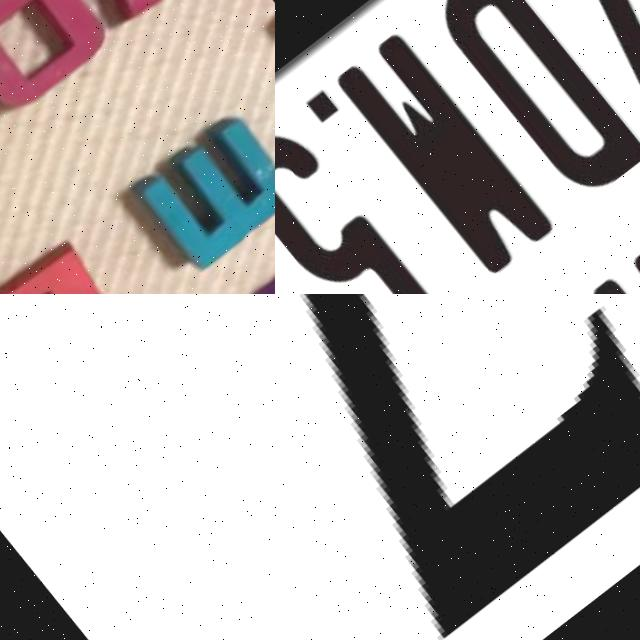5: (275, 112, 444, 294)
7: (275, 294, 640, 640), (0, 294, 275, 640)
D: (416, 0, 640, 208)
E: (0, 236, 133, 294)
M: (323, 26, 556, 281), (110, 100, 275, 278)
O: (0, 0, 113, 120)
X: (275, 179, 359, 294)
Z: (513, 0, 640, 136)
